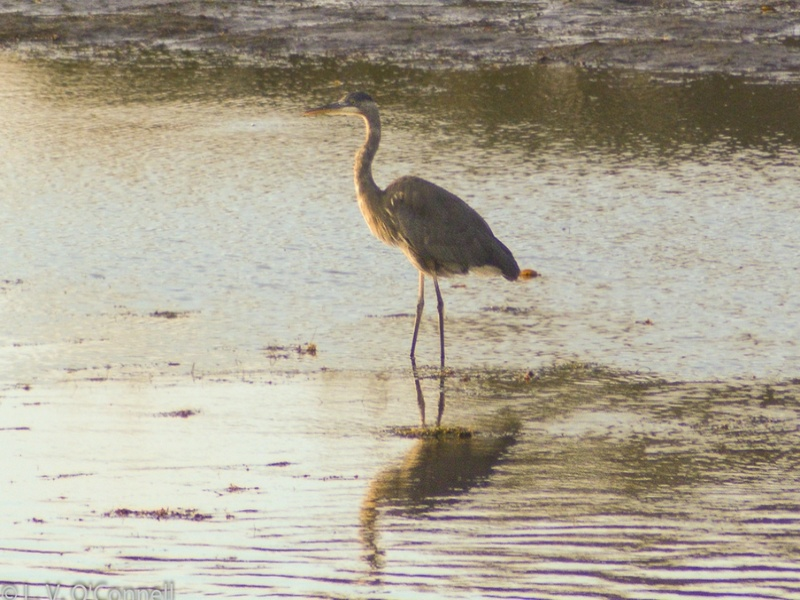heron: (303, 90, 540, 392)
